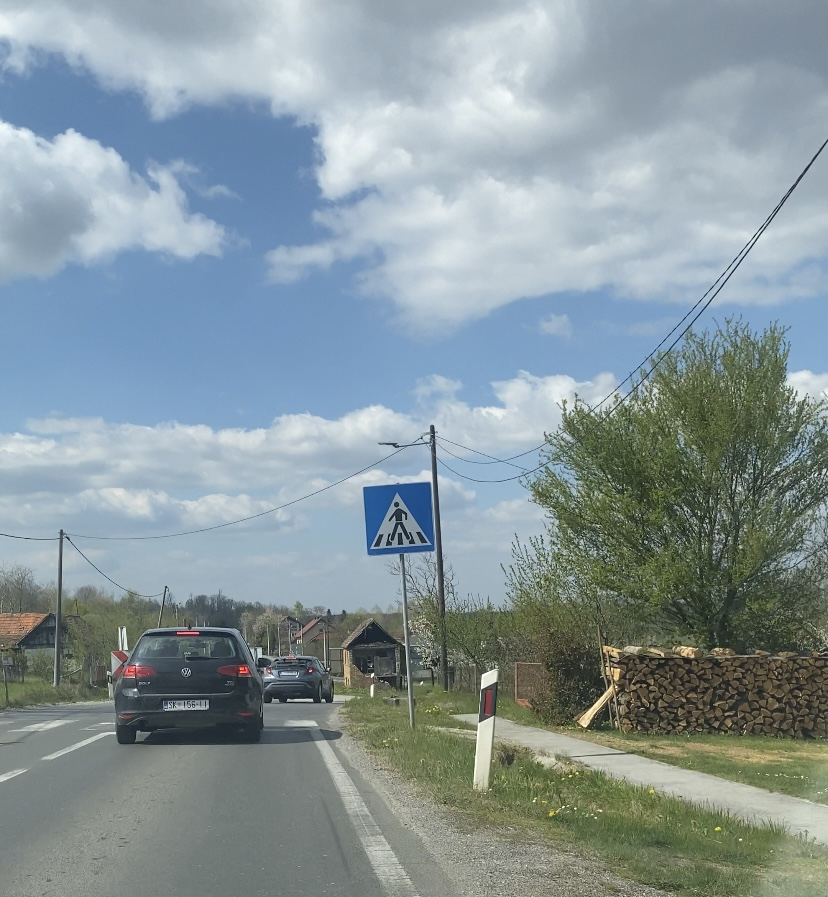Pješački prijelaz: (362, 481, 434, 555)
